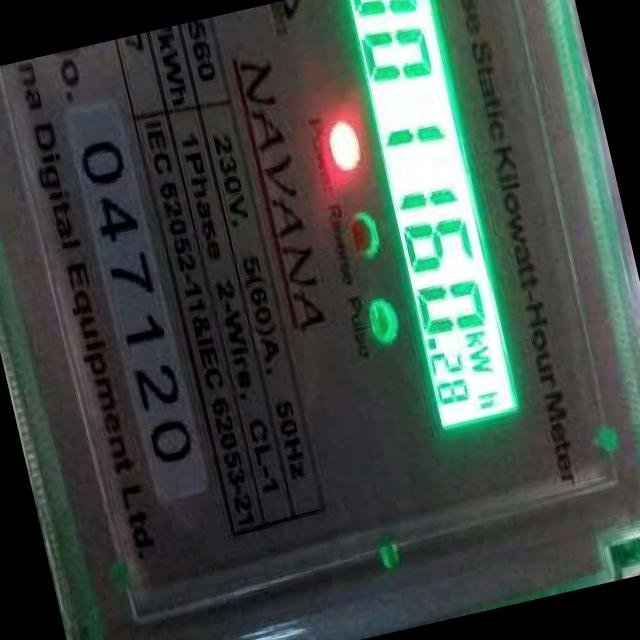LCD: (326, 0, 540, 445)
